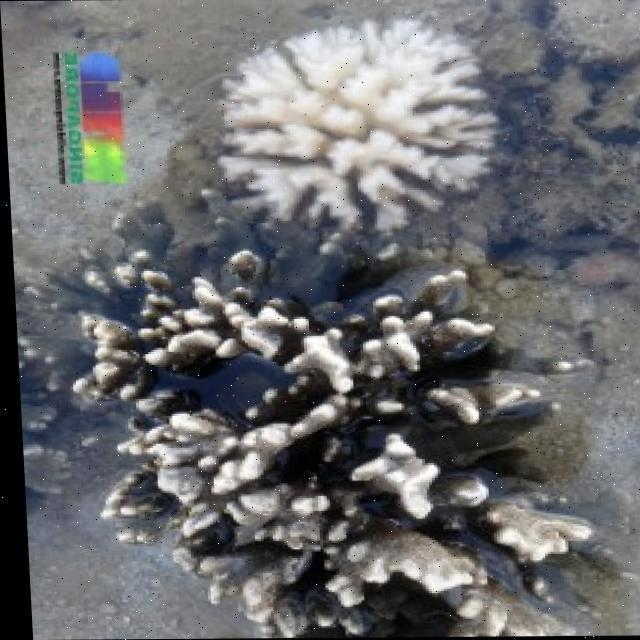Bleached Coral: (220, 23, 521, 253)
Dead Coral: (99, 271, 530, 612)
